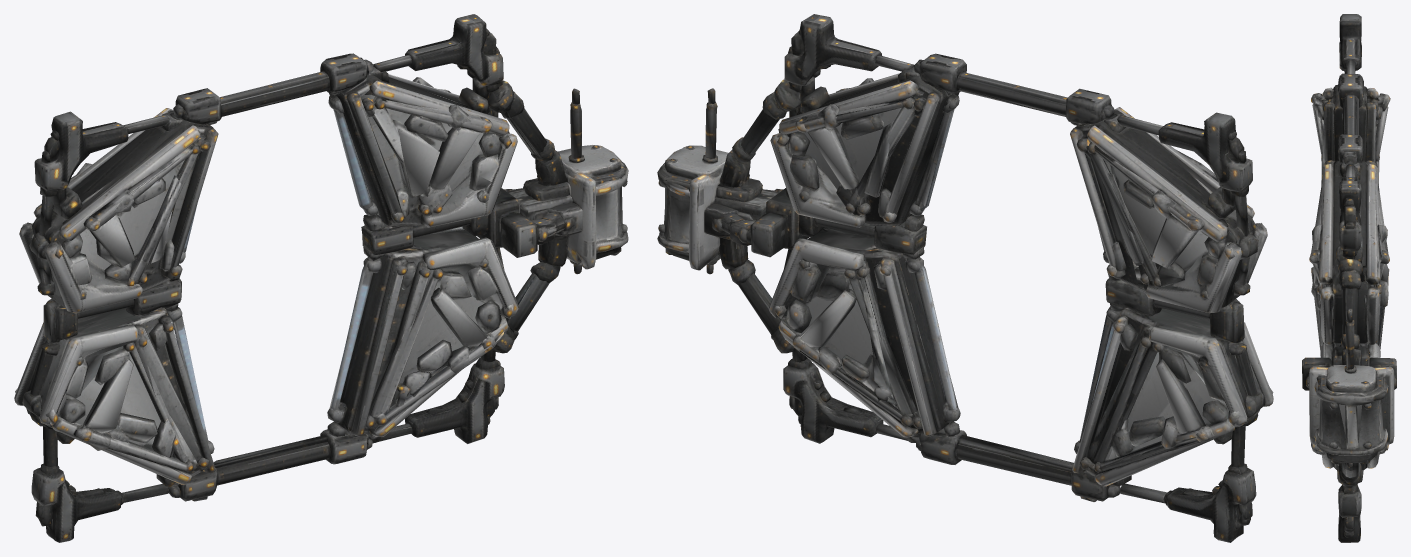
Rendered from lane-gate-discarded-04.glb.
The picture shows the model from 3 angles, left to right: view 1: azimuth 30°, elevation 25°; view 2: azimuth 150°, elevation 25°; view 3: azimuth 270°, elevation 25°; orthographic projection. The views are drawn at different scales.
Size of the model in its own units: 1 by 0.6788 by 0.1638.
1 material, 1 textured.
